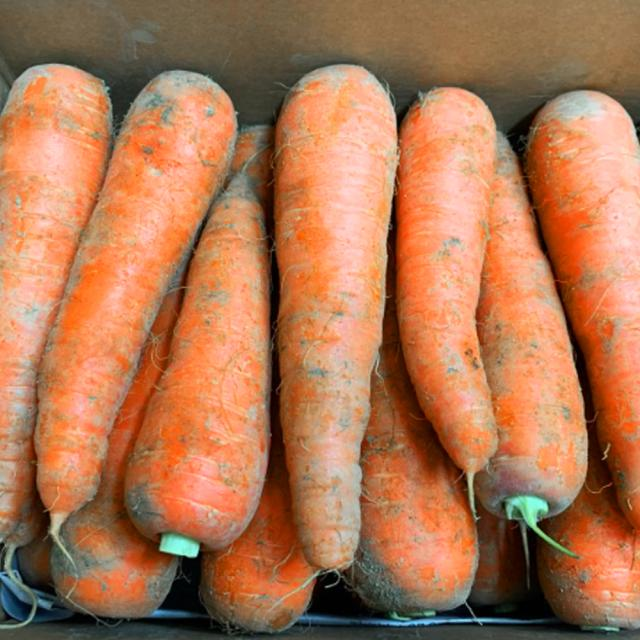carrot: (34, 67, 246, 529), (270, 62, 398, 586), (123, 152, 278, 569), (461, 125, 602, 543), (0, 59, 119, 543), (526, 82, 640, 552), (394, 84, 506, 494)
